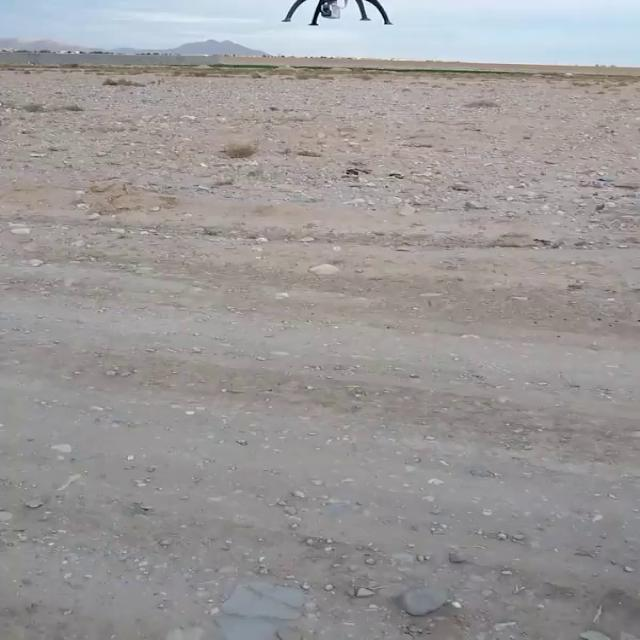drone: (273, 0, 400, 26)
